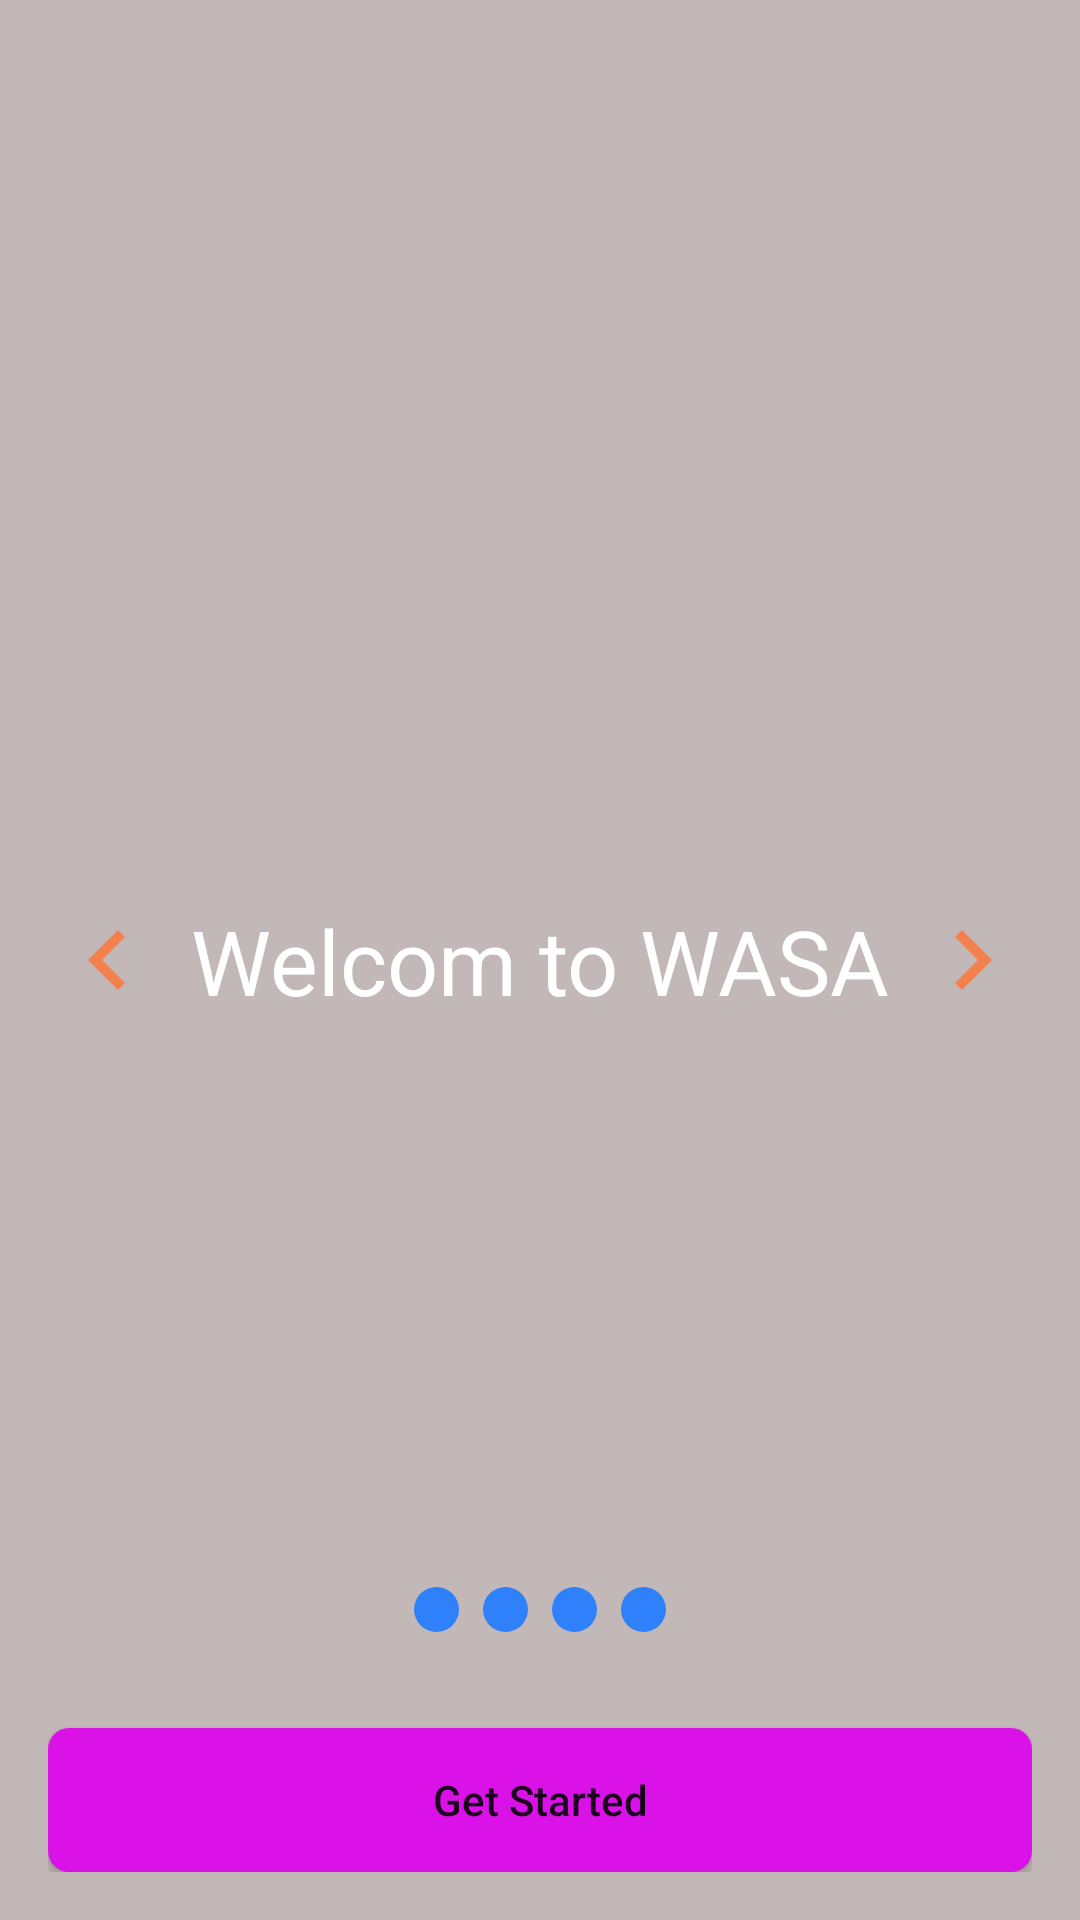

Screen size 1080 × 1920. Icon name, then its center in pixels as point (x, y):
Go back to previous slide: point (106, 960)
Go to the next slide: point (973, 960)
